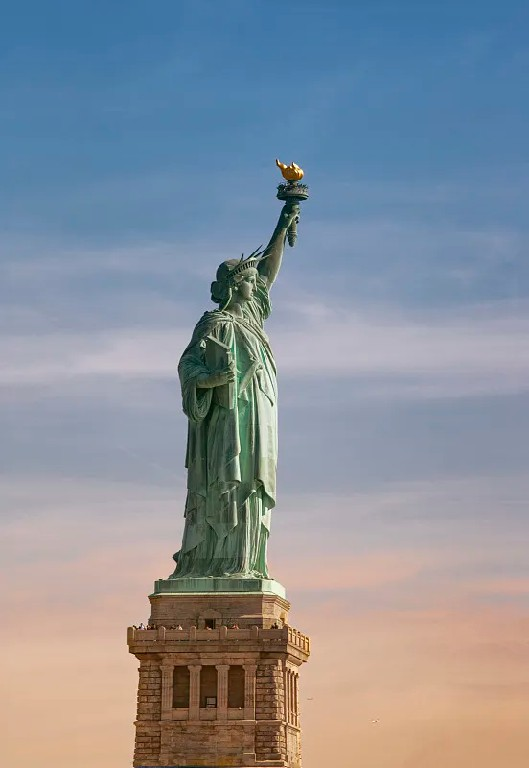SL: (127, 158, 310, 768)
